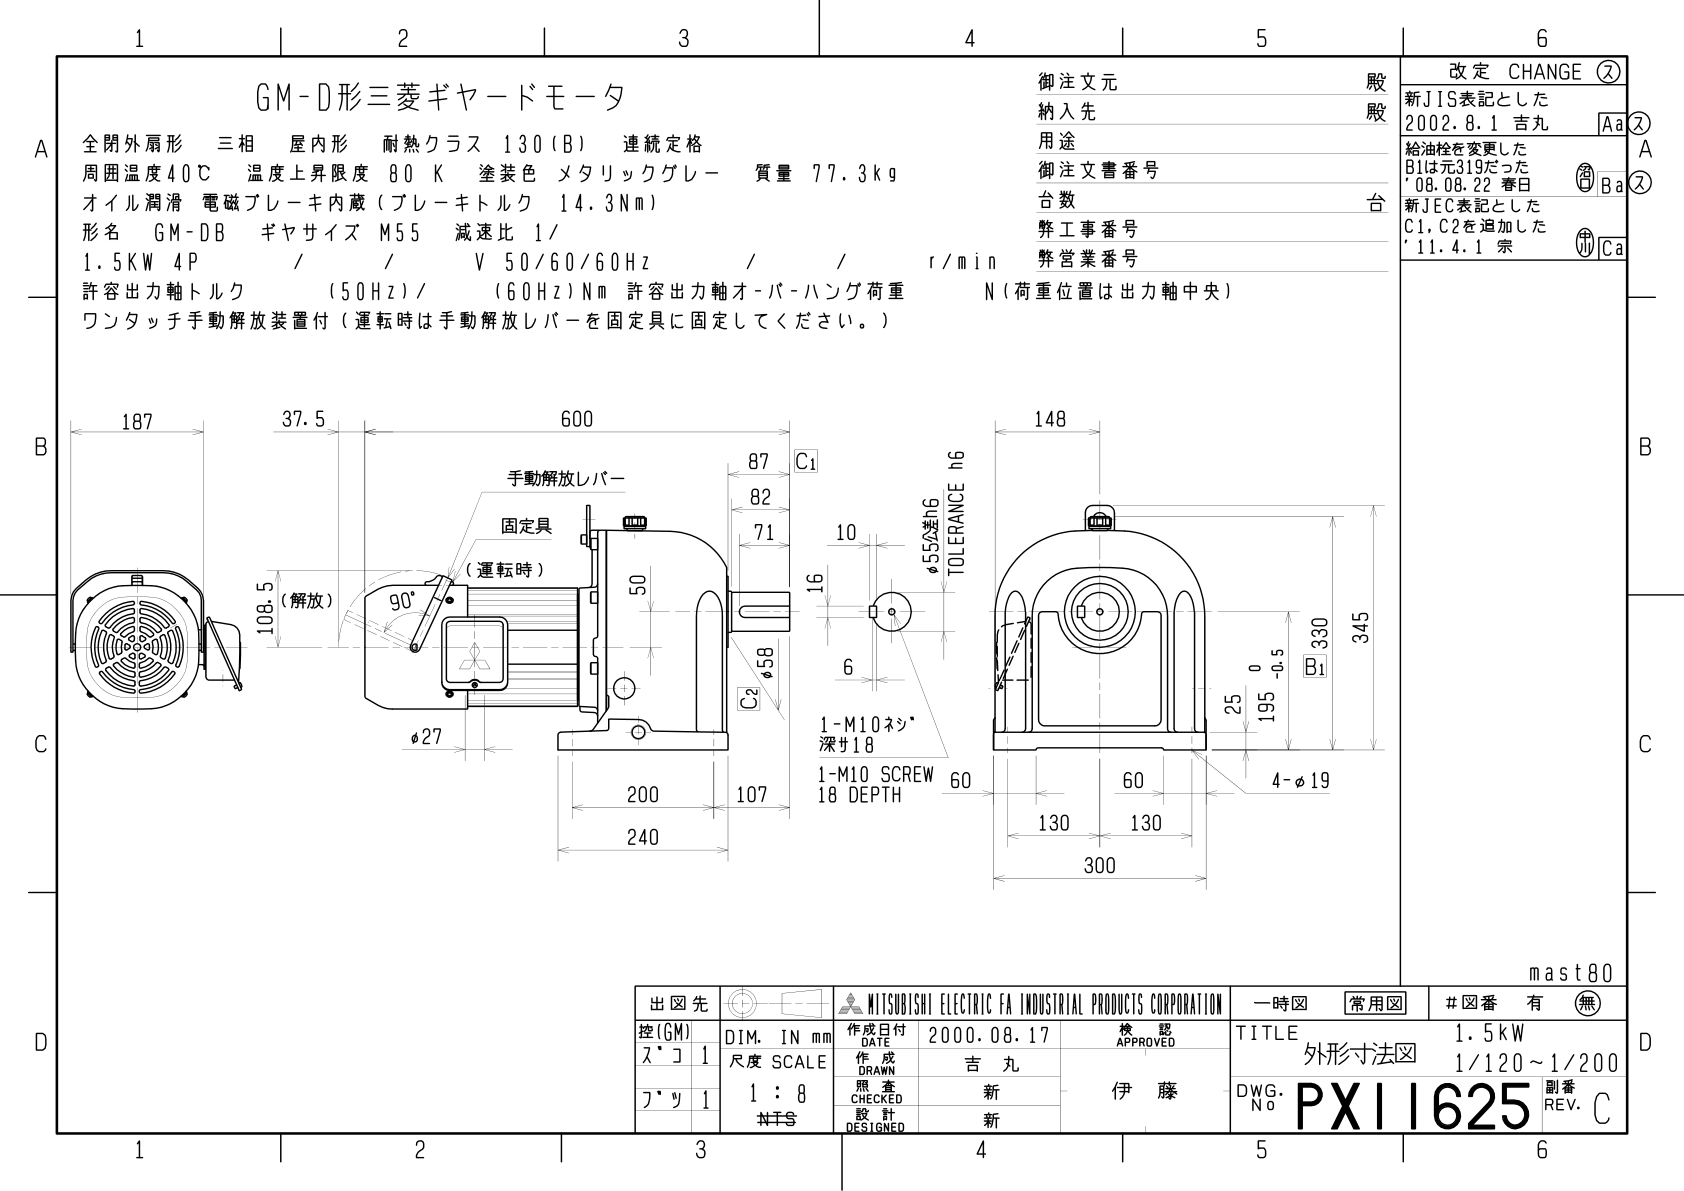GM_D_手動解放ブレーキ＿三相_脚: (63, 361, 1389, 918)
